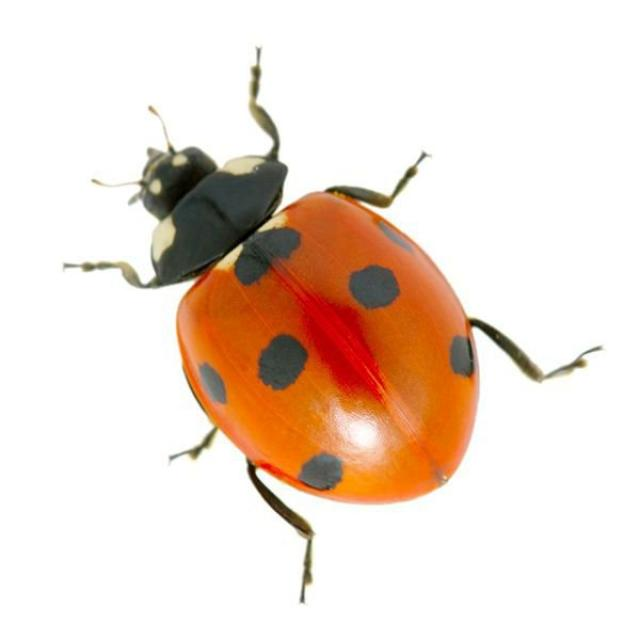ladybug: (66, 63, 602, 582)
